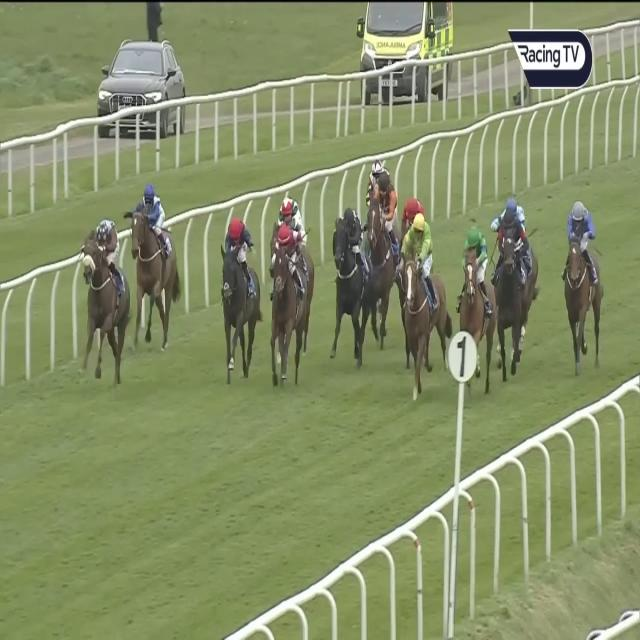horses-racing: (403, 209, 441, 404), (85, 215, 128, 371), (219, 214, 258, 382), (132, 182, 172, 344), (267, 218, 302, 392), (566, 200, 602, 362), (457, 226, 491, 379), (497, 217, 526, 382), (369, 169, 396, 330), (333, 202, 361, 350), (278, 195, 309, 232), (503, 194, 524, 229), (401, 196, 425, 223), (368, 156, 387, 187)
